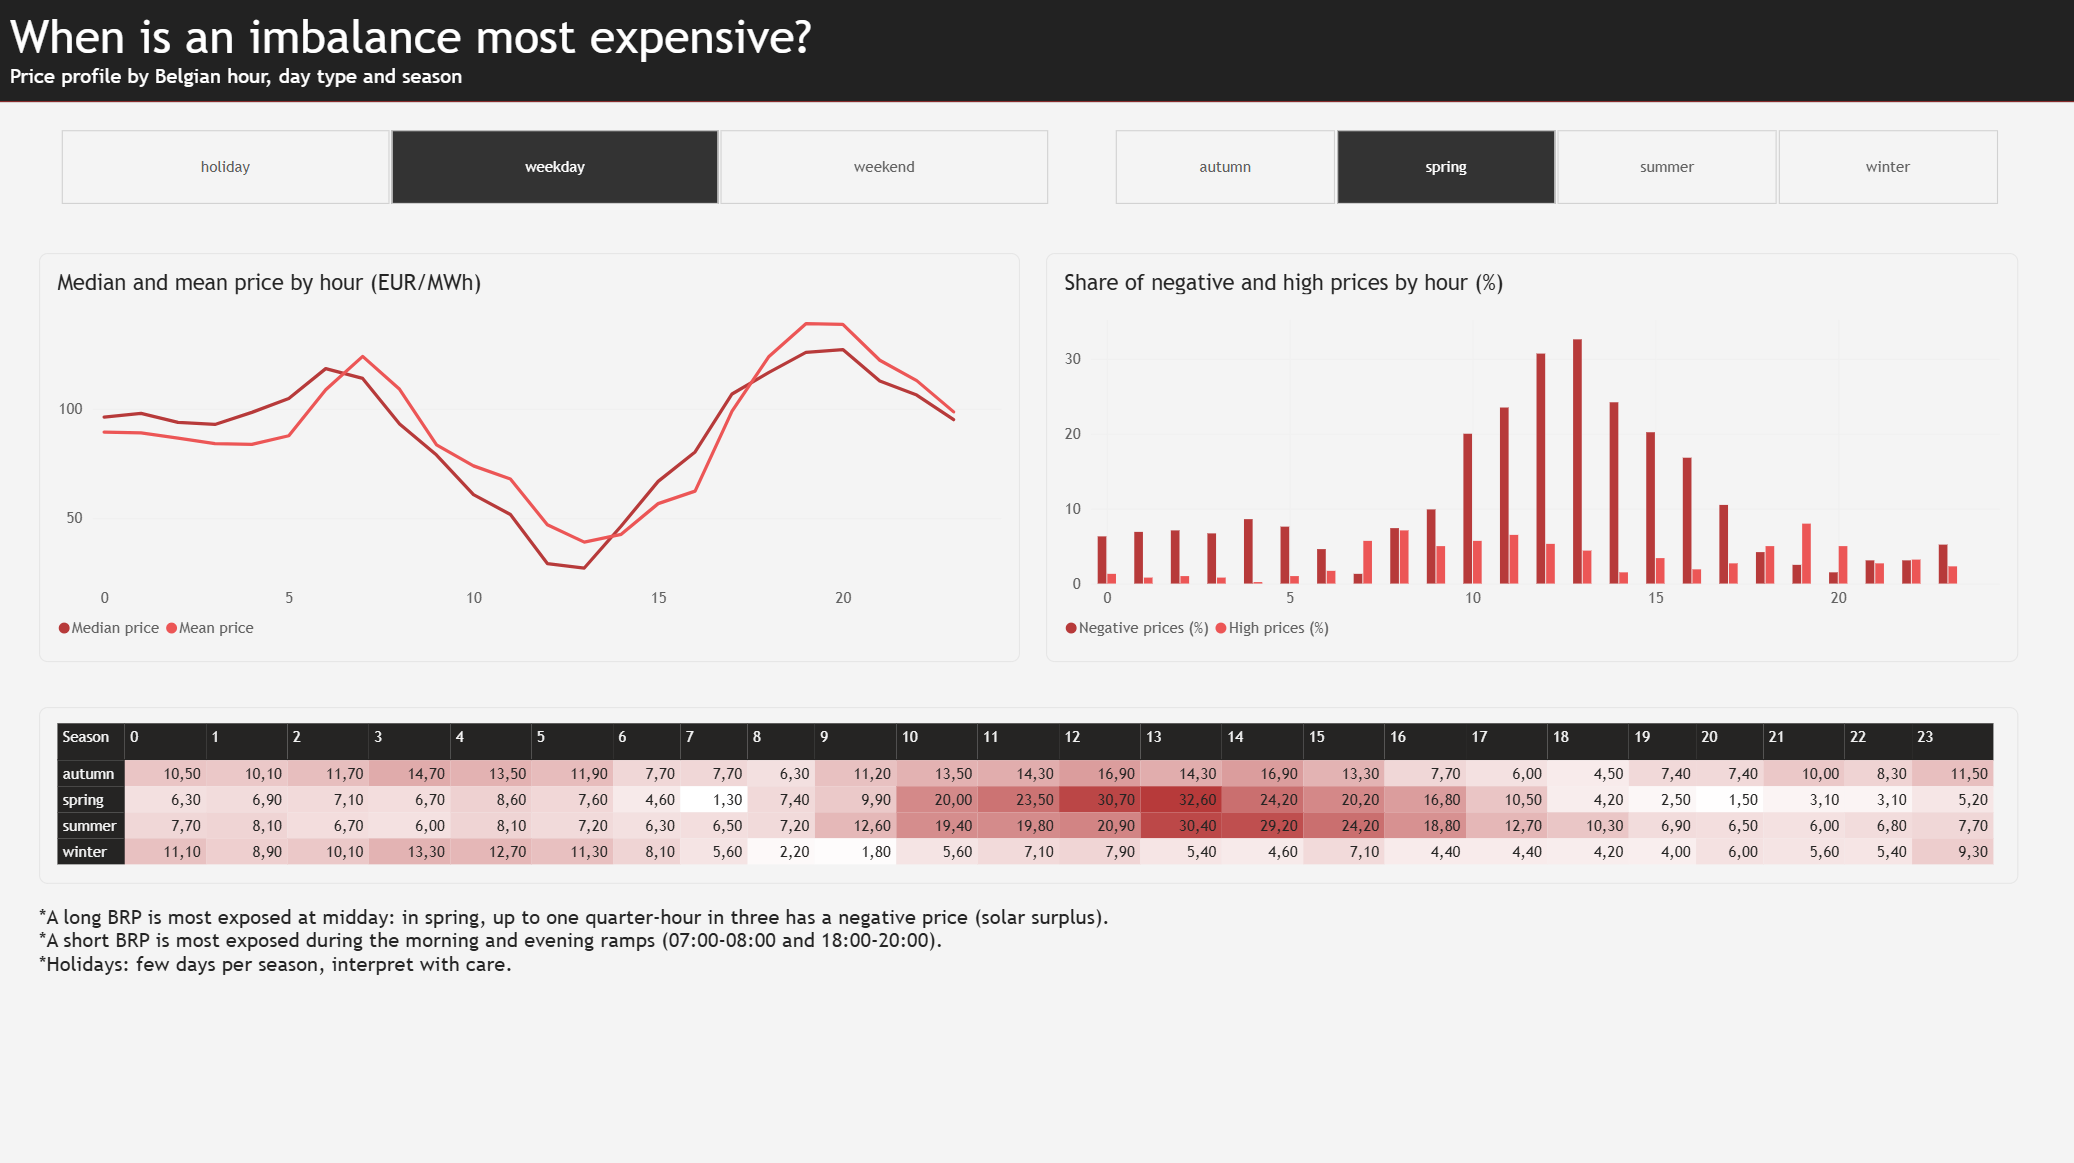

The page's visual inventory and layout, read from the dashboard file:
{"tool":"powerbi","page":{"name":"Risk by hour","canvas":[1920,1080],"ordinal":1},"visuals":[{"type":"shape","box":[0,0,1920,97.8],"z":0},{"type":"textbox","box":[12.8,12.8,780.5,84.9],"z":1000},{"type":"slicer","fields":{"Values":["price_profile.day_type"]},"box":[40.1,121.8,948.8,72.1],"z":2000},{"type":"slicer","fields":{"Values":["price_profile.season"]},"box":[1011.3,121.8,852.6,72.1],"z":3000},{"type":"lineChart","title":"Median and mean price by hour (EUR/MWh)","fields":{"Category":["price_profile.hour_local"],"Y":["Avg(price_profile.median_price_eur_mwh)","Avg(price_profile.avg_price_eur_mwh)"]},"box":[40.1,237.2,903.9,376.6],"z":4000},{"type":"clusteredColumnChart","title":"Share of negative and high prices by hour (%)","fields":{"Category":["price_profile.hour_local"],"Y":["Avg(price_profile.pct_negative_price)","Avg(price_profile.pct_high_price)"]},"box":[968,237.2,895.9,376.6],"z":5000},{"type":"pivotTable","fields":{"Columns":["price_profile.hour_local"],"Rows":["price_profile.season"],"Values":["Avg(price_profile.pct_negative_price)"]},"box":[40.1,655.5,1823.8,163.5],"z":6000},{"type":"textbox","box":[40.1,836.6,1823.8,205.1],"z":7000}]}

Visuals, with their boxes in screenshot pixels (x1, y1, x2, y2), scaled from the page's 1920x1080 canvas onto the 2074x1163 screenshot:
shape: [0, 0, 2073, 105]
textbox: [14, 14, 857, 105]
slicer - price_profile.day_type: [43, 131, 1068, 209]
slicer - price_profile.season: [1092, 131, 2013, 209]
"Median and mean price by hour (EUR/MWh)" lineChart: [43, 255, 1020, 661]
"Share of negative and high prices by hour (%)" clusteredColumnChart: [1046, 255, 2013, 661]
pivotTable - price_profile.hour_local x price_profile.season: [43, 706, 2013, 882]
textbox: [43, 901, 2013, 1122]
